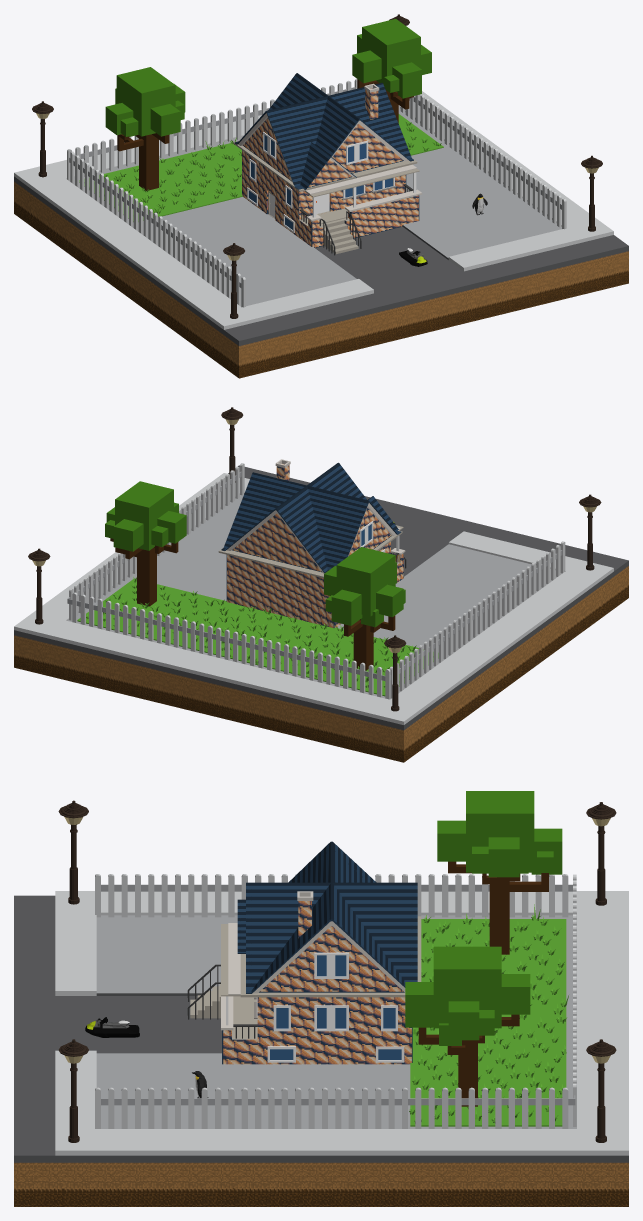
3 views of the same model, one above another, from view 1: azimuth 30°, elevation 25°; view 2: azimuth 150°, elevation 25°; view 3: azimuth 270°, elevation 25° (orthographic). The views are drawn at different scales.
Parts seen in each view (by area): view 1: Cube.004, Cube.430; view 2: Cube.004, Cube.430; view 3: Cube.004, Cube.430, VEHICLES_WATERBIKE.
Boxes of the visible parts, left/top/right/bottom form: Cube.004: left=14, top=14, right=628, bottom=378; Cube.430: left=233, top=73, right=422, bottom=255; Cube.004: left=14, top=407, right=628, bottom=762; Cube.430: left=218, top=459, right=406, bottom=627; Cube.004: left=14, top=791, right=628, bottom=1206; Cube.430: left=187, top=841, right=421, bottom=1064; VEHICLES_WATERBIKE: left=85, top=1017, right=139, bottom=1037.
Size of the model in its own units: 4000 by 1617 by 4000.
27 materials, 4 textured.
